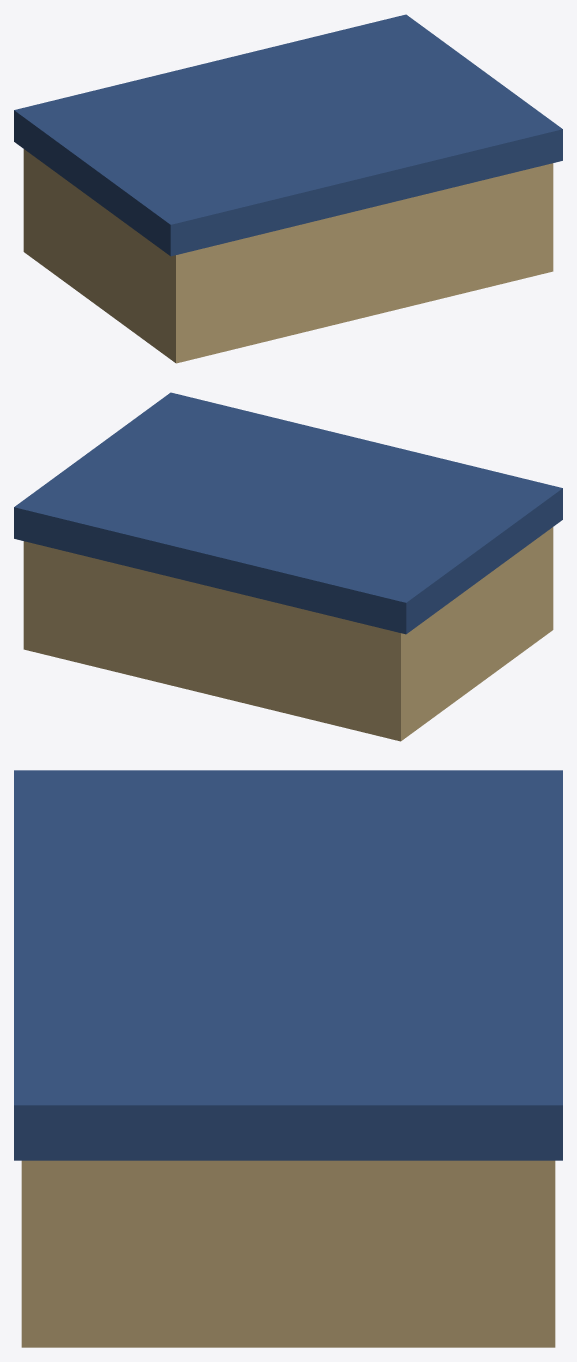
Rendered from matches.glb.
3 renders of one model, top to bottom at view 1: azimuth 30°, elevation 25°; view 2: azimuth 150°, elevation 25°; view 3: azimuth 270°, elevation 25°, orthographic. The views are drawn at different scales.
Parts seen in each view (by area): view 1: Item; view 2: Item; view 3: Item.
Boxes of the visible parts, box(x1,y1,x2,y2) form: Item: box(14, 14, 562, 363); Item: box(14, 392, 562, 741); Item: box(14, 770, 562, 1347).
Bounding box in the file's own units: 0.052 × 0.018 × 0.036.
